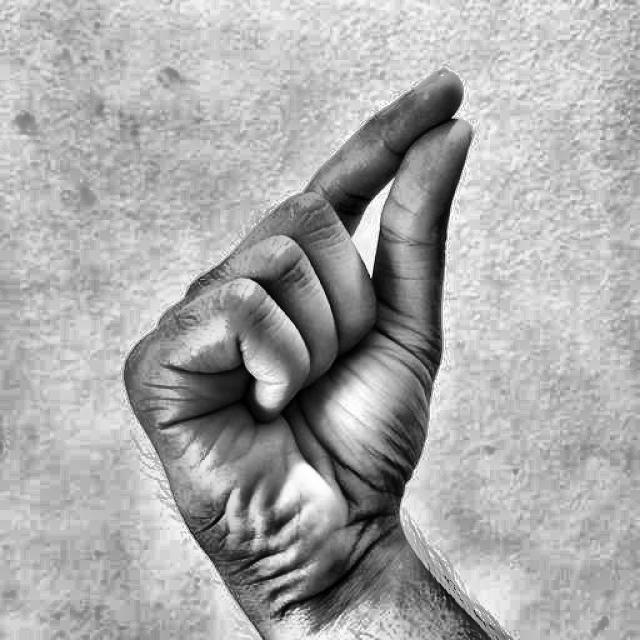Anusshar: (111, 46, 494, 617)
